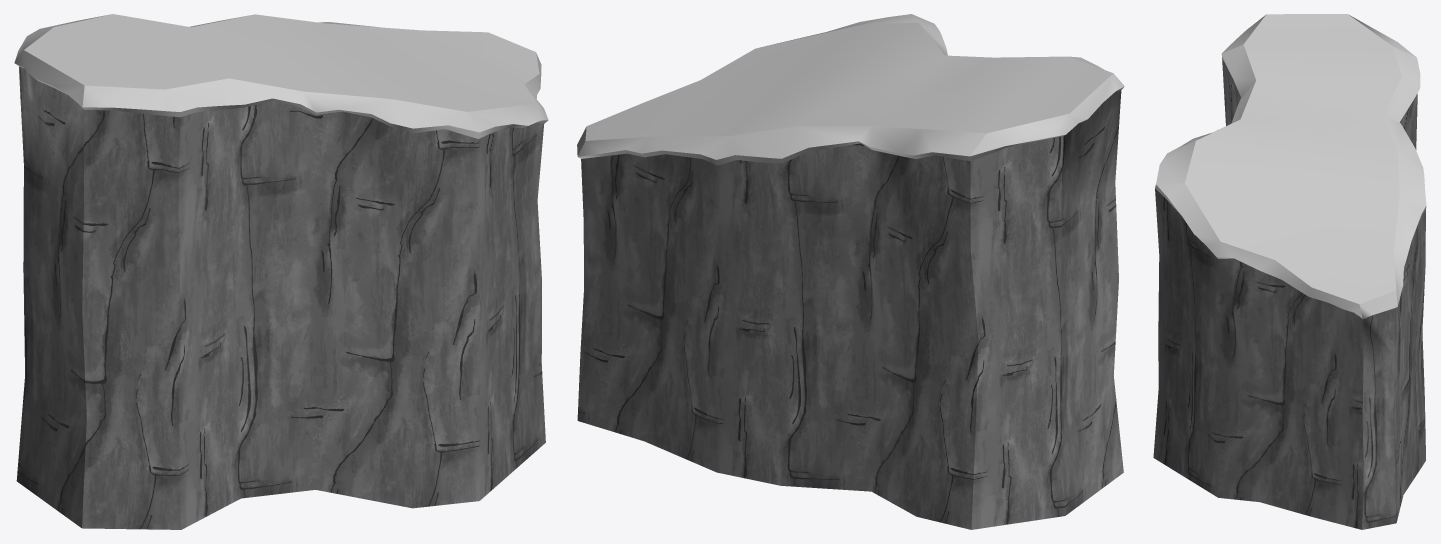
The model's file is CliffWAll_large.fbx.
3 renders of one model, left to right at view 1: azimuth 30°, elevation 25°; view 2: azimuth 150°, elevation 25°; view 3: azimuth 270°, elevation 25°, orthographic. The views are drawn at different scales.
Parts seen in each view (by area): view 1: CliffWAll_large; view 2: CliffWAll_large; view 3: CliffWAll_large.
Boxes of the visible parts, x1,y1,x2,y2 form: CliffWAll_large: (14, 14, 548, 529); CliffWAll_large: (577, 14, 1124, 529); CliffWAll_large: (1153, 14, 1426, 529).
Bounding box in the file's own units: 2921 × 2303 × 1742.
